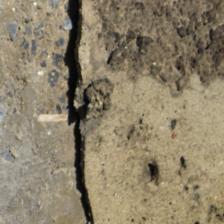Crack: (60, 3, 110, 223)
